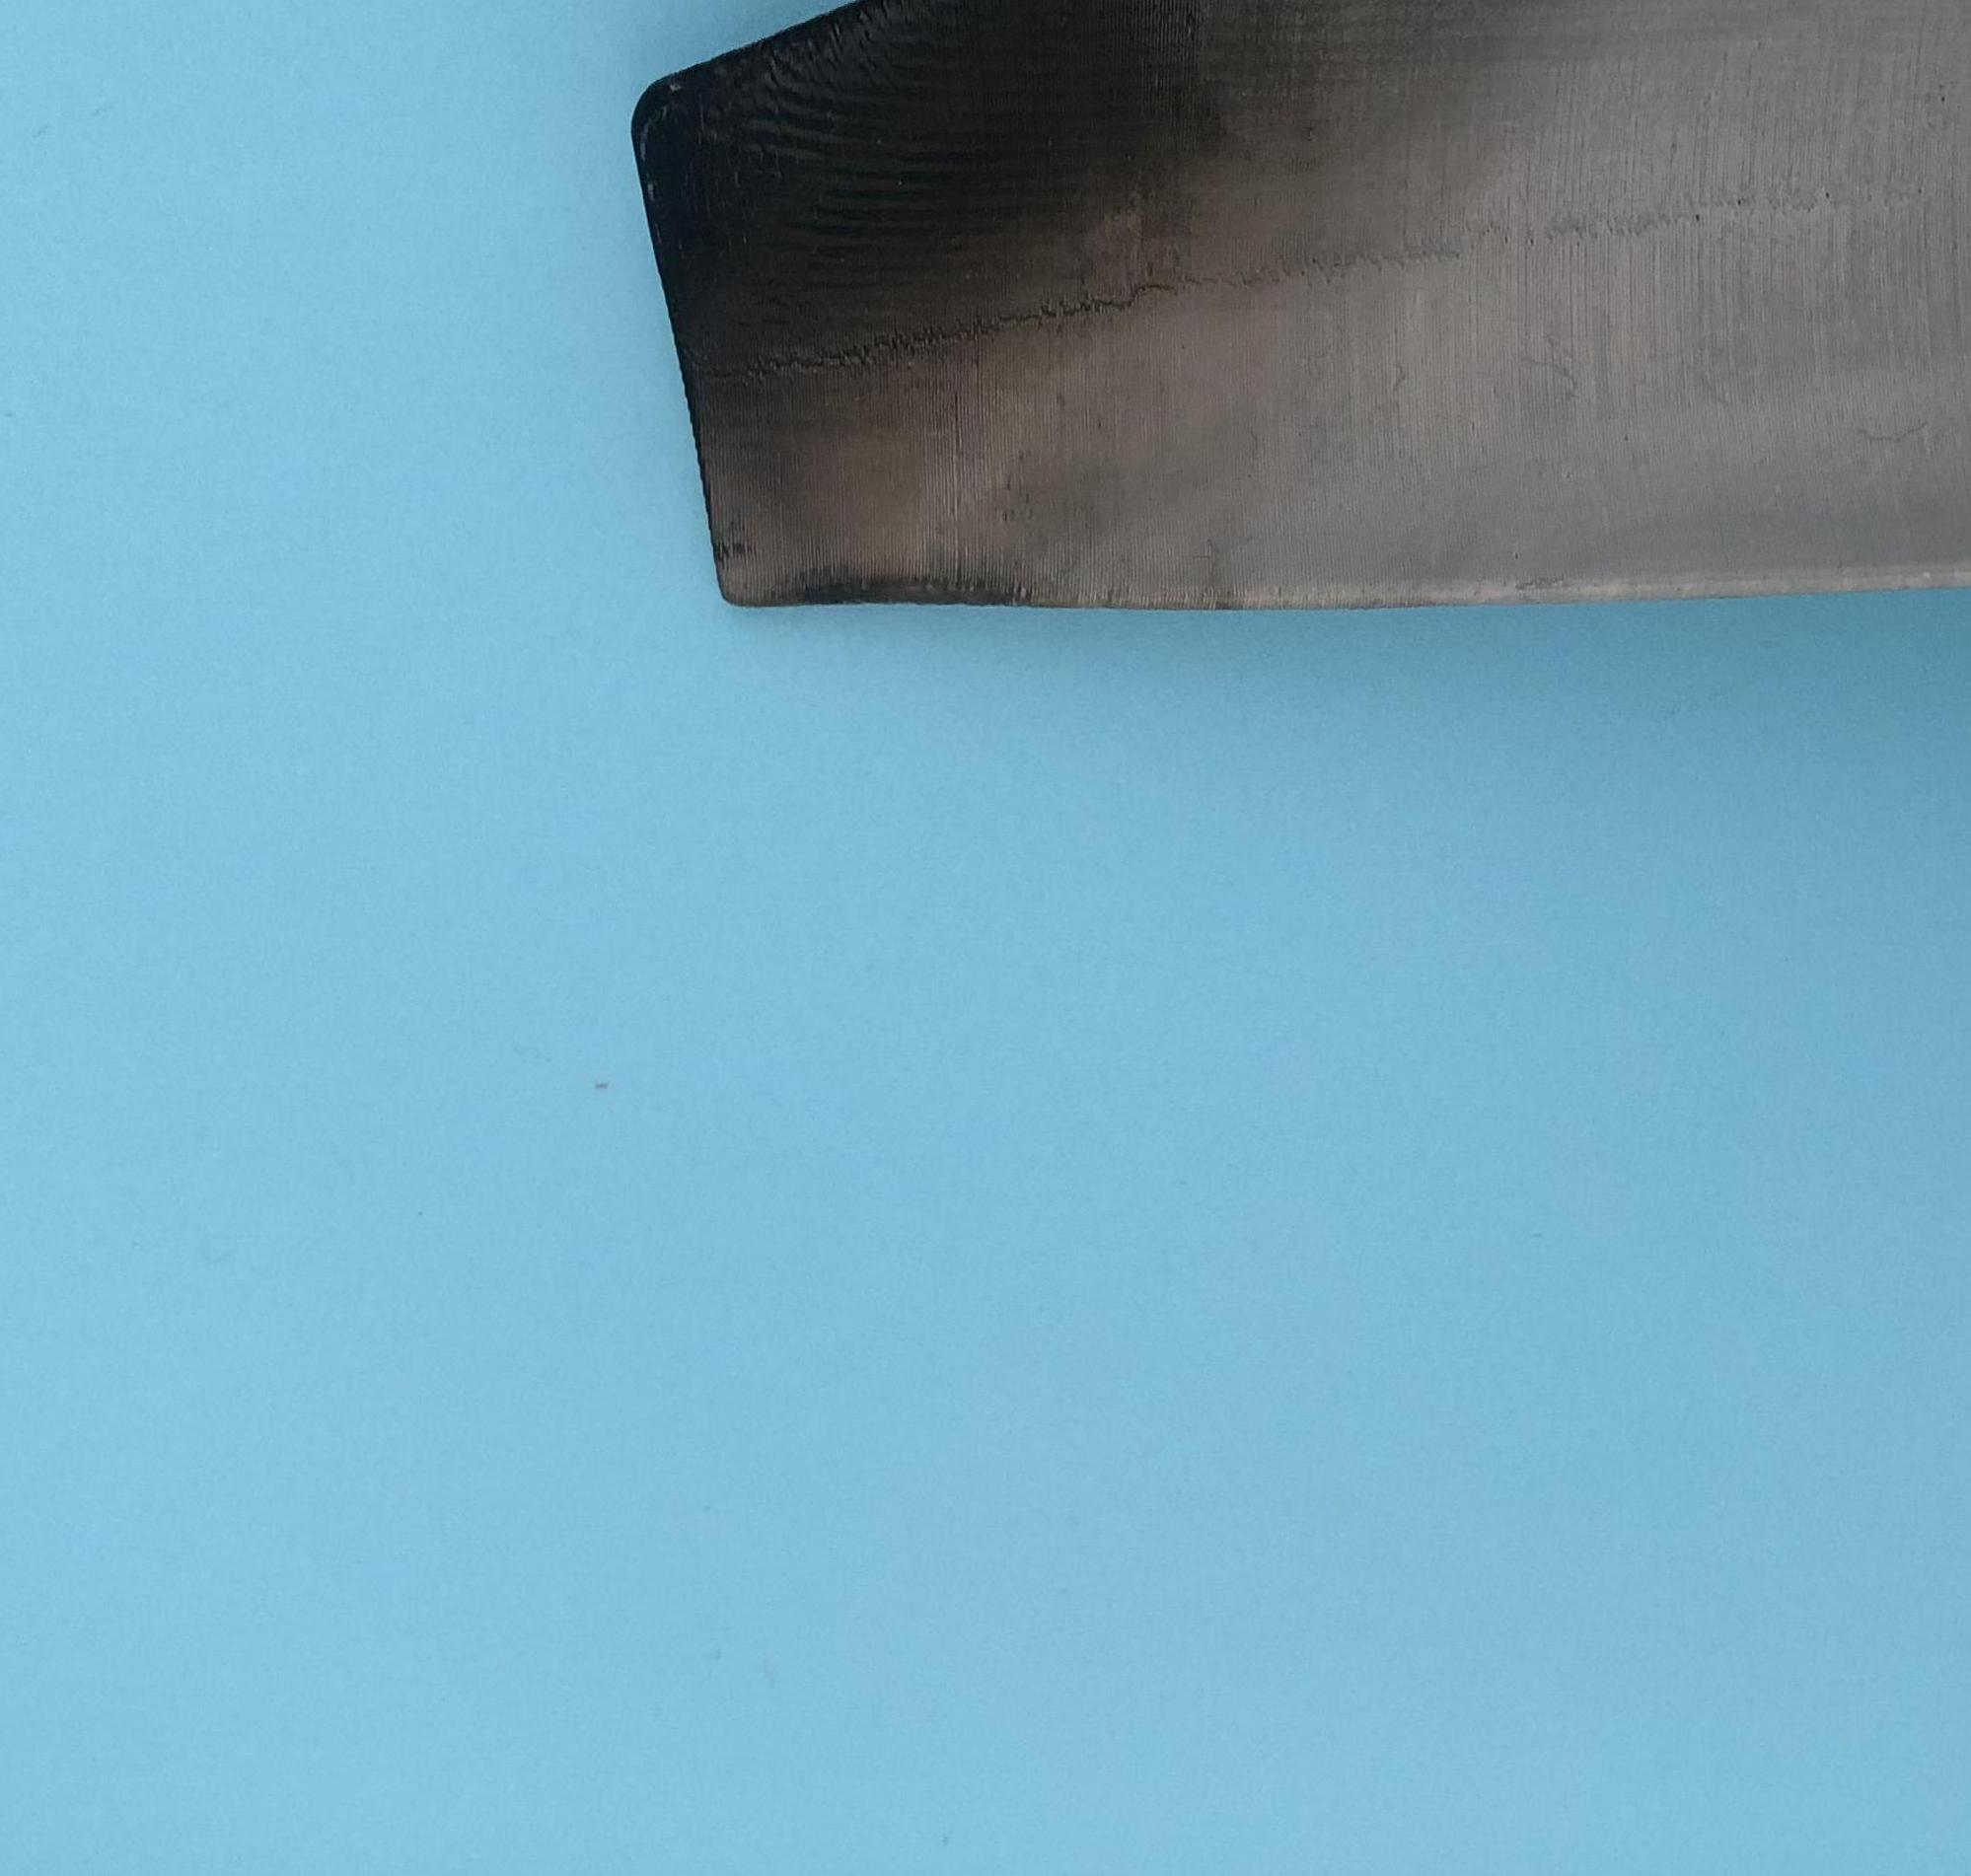ablation: (649, 62, 1265, 394)
